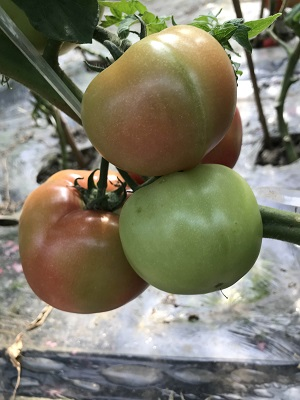immature-tomato: (119, 163, 262, 295)
semi-mature-tomato: (82, 24, 239, 175), (20, 170, 141, 314)
